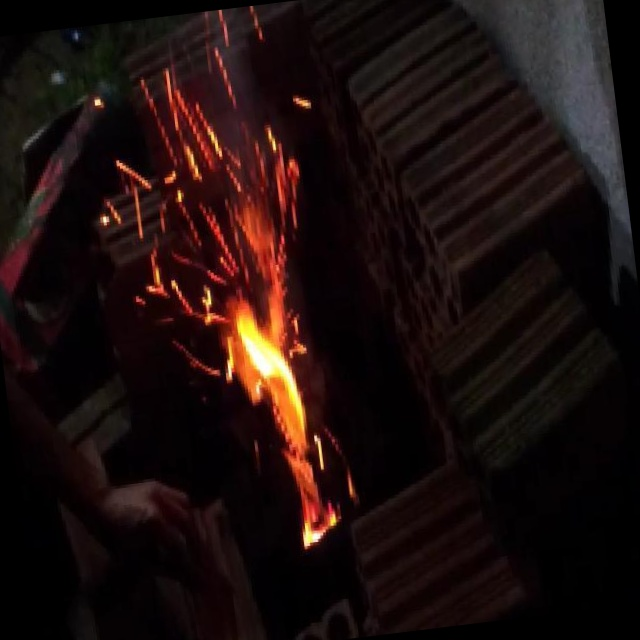fire: (109, 21, 393, 585)
